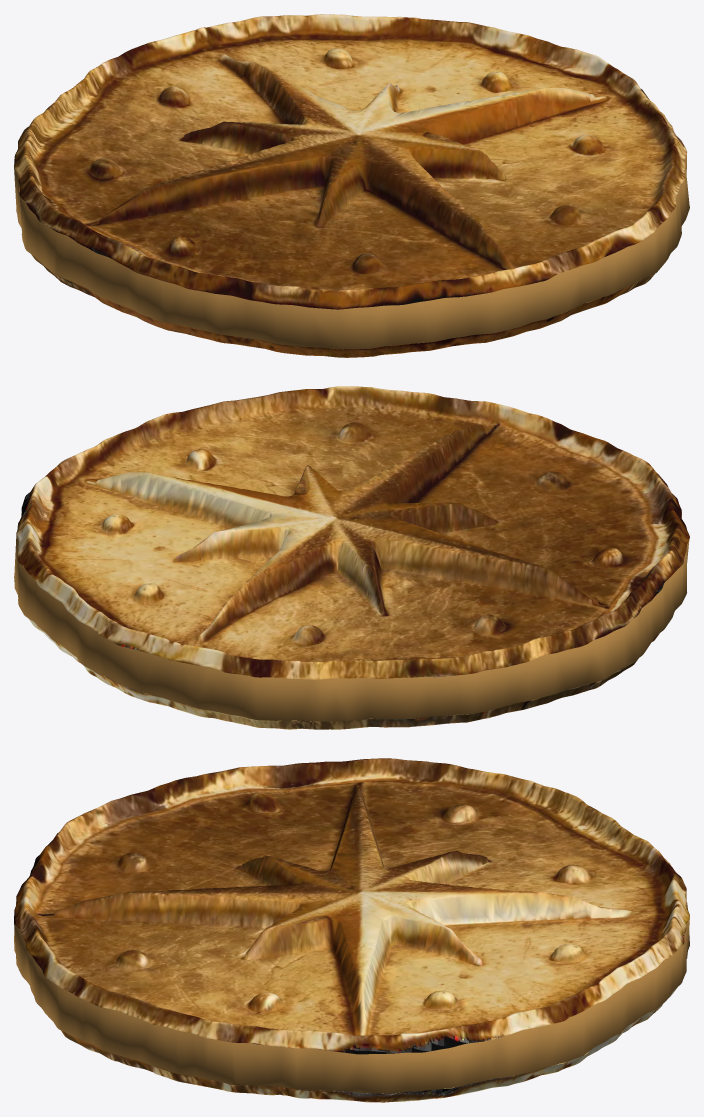
The model's file is coin.glb.
3 views of the same model, one above another, from view 1: azimuth 30°, elevation 25°; view 2: azimuth 150°, elevation 25°; view 3: azimuth 270°, elevation 25° (orthographic).
Visible parts, largest first — view 1: Hand-struck gold coin; view 2: Hand-struck gold coin; view 3: Hand-struck gold coin.
Boxes of the visible parts, x1,y1,x2,y2 form: Hand-struck gold coin: (14, 14, 689, 357); Hand-struck gold coin: (14, 386, 689, 729); Hand-struck gold coin: (14, 758, 689, 1102).
Bounding box in the file's own units: 2.03 × 0.2887 × 2.01.
Materials: 3 (2 with a texture image).
